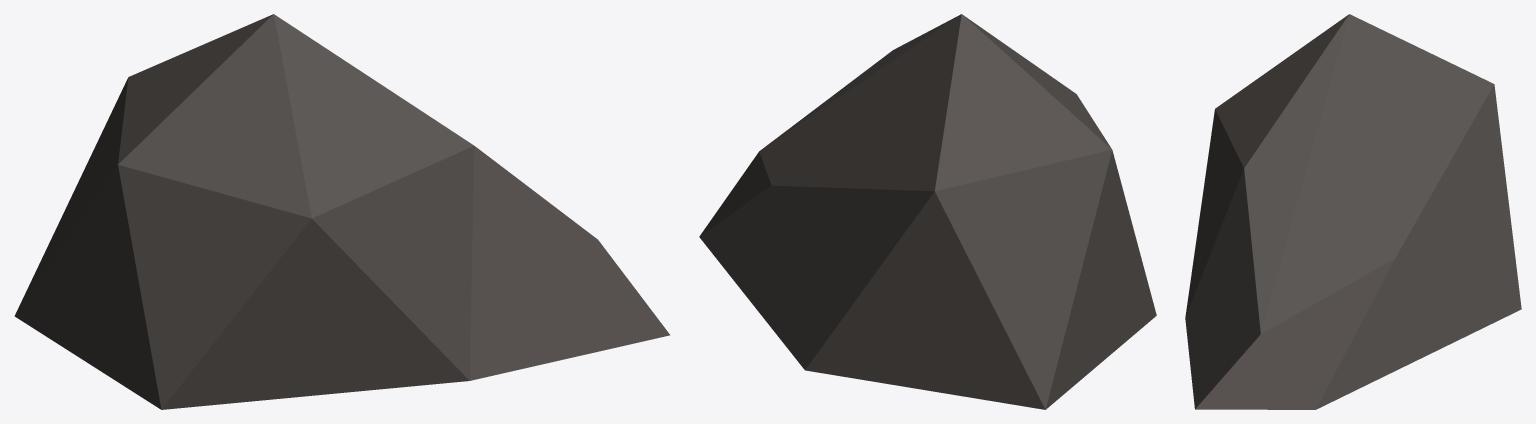
The model's file is Stone_001.fbx.
3 views of the same model, side by side, from view 1: azimuth 30°, elevation 25°; view 2: azimuth 150°, elevation 25°; view 3: azimuth 270°, elevation 25° (orthographic). The views are drawn at different scales.
Visible parts, largest first — view 1: Cylinder.003; view 2: Cylinder.003; view 3: Cylinder.003.
Boxes of the visible parts, x1,y1,x2,y2 form: Cylinder.003: (14, 14, 669, 409); Cylinder.003: (699, 14, 1156, 409); Cylinder.003: (1185, 14, 1521, 409).
Bounding box in the file's own units: 1.71 × 1.25 × 1.12.
